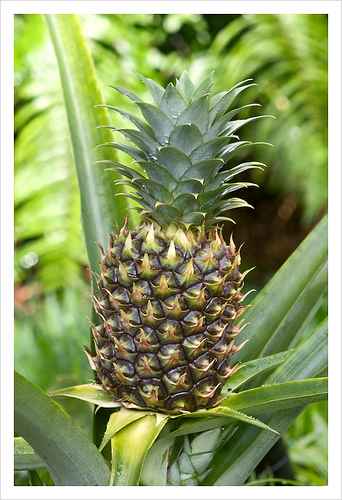pineapple: (81, 68, 274, 413)
